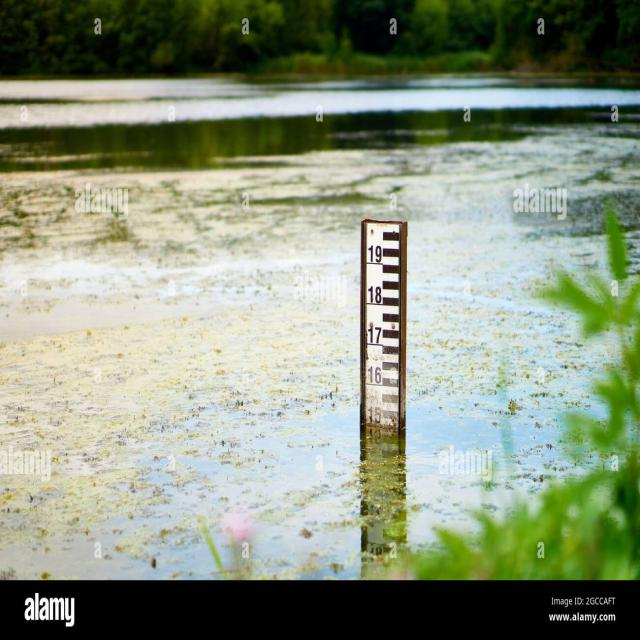ruler: (357, 216, 412, 437)
value: (366, 281, 386, 308), (366, 320, 383, 348), (366, 362, 384, 388), (367, 242, 385, 266), (366, 404, 384, 425)
